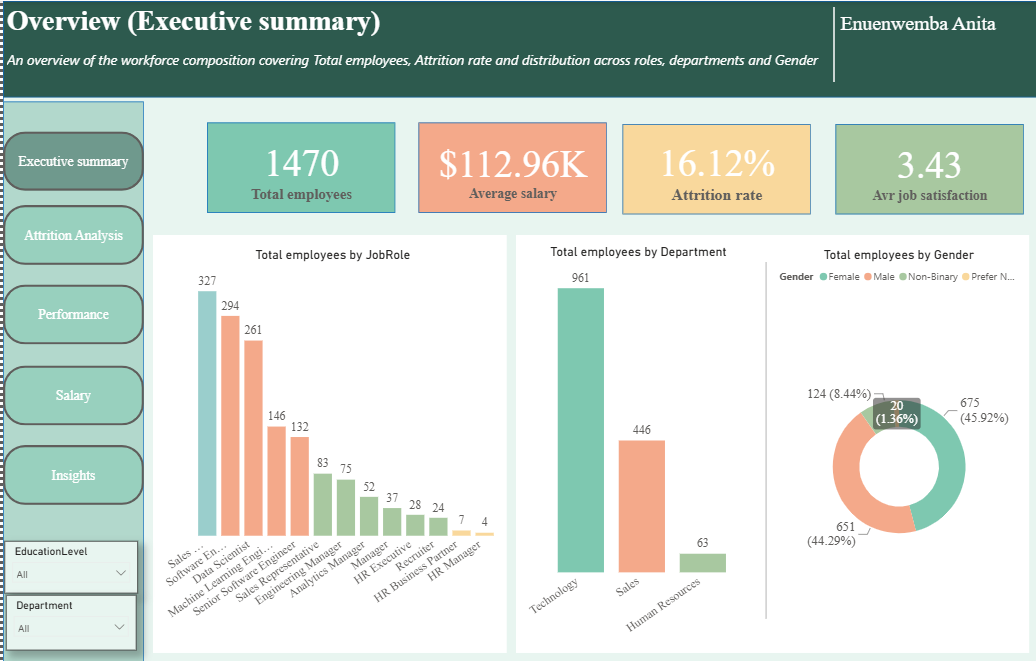

The dashboard page shown, as its layout file describes it:
{"tool":"powerbi","page":{"name":"Executive summary","canvas":[1400,900],"ordinal":0},"visuals":[{"type":"shape","box":[0,0,1399.3,899.1],"z":0},{"type":"shape","box":[1122.4,165.4,254.2,121.9],"z":1000},{"type":"shape","box":[835,165.4,254.2,121.9],"z":2000},{"type":"shape","box":[560.1,163.3,254.2,121.9],"z":3000},{"type":"shape","box":[274.9,163.3,254.2,121.9],"z":4000},{"type":"shape","box":[0,0,1399.3,130.2],"z":5000},{"type":"shape","box":[0,136.4,190.2,762.7],"z":6000},{"type":"shape","box":[202.6,316.2,477.5,564.3],"z":7000},{"type":"shape","box":[692.4,316.2,692.4,564.3],"z":8000},{"type":"card","fields":{"Values":["Employee.Total employees"]},"box":[274.9,165.4,254.2,119.9],"z":9000},{"type":"card","fields":{"Values":["PerformanceRating.Avr job satisfaction"]},"box":[1122.4,169.5,254.2,115.7],"z":10000},{"type":"card","fields":{"Values":["Employee.Attrition rate"]},"box":[835,165.4,254.2,121.9],"z":11000},{"type":"card","fields":{"Values":["Employee.AVERAGE SALARY"]},"box":[560.1,165.4,254.2,119.9],"z":12000},{"type":"clusteredColumnChart","fields":{"Category":["Employee.Department"],"Y":["Employee.Total employees"]},"box":[698.6,328.6,318.3,547.7],"z":13000},{"type":"donutChart","fields":{"Category":["Employee.Gender"],"Y":["Employee.Total employees"]},"box":[1039.7,332.8,336.9,543.6],"z":14000},{"type":"textbox","box":[0,0,1398.6,129.5],"z":15000},{"type":"clusteredColumnChart","fields":{"Category":["Employee.JobRole"],"Y":["Employee.Total employees"]},"box":[210.8,332.8,469.2,533.3],"z":16000},{"type":"slicer","fields":{"Values":["EducationLevel.EducationLevel"]},"box":[2,728.7,180.1,70.8],"z":17000},{"type":"slicer","fields":{"Values":["Employee.Department"]},"box":[4,801.5,176.1,74.9],"z":18000},{"type":"shape","box":[957,351.4,144.7,481.6],"z":19000},{"type":"actionButton","box":[0,176.1,190.3,80],"z":20000},{"type":"actionButton","box":[0,275.3,190.3,81],"z":21000},{"type":"actionButton","box":[0,382.5,190.3,81],"z":22000},{"type":"actionButton","box":[0,491.8,190.3,81],"z":23000},{"type":"actionButton","box":[0,599.1,190.3,81],"z":24000},{"type":"shape","box":[1101.1,8.1,40.5,101.2],"z":25000}]}

Visuals, with their boxes in screenshot pixels (x1, y1, x2, y2), scaled from the page's 1400x900 canvas onto the 1036x661 screenshot:
shape: bbox=(0, 0, 1035, 660)
shape: bbox=(831, 121, 1019, 211)
shape: bbox=(618, 121, 806, 211)
shape: bbox=(414, 120, 603, 209)
shape: bbox=(203, 120, 392, 209)
shape: bbox=(0, 0, 1035, 96)
shape: bbox=(0, 100, 141, 660)
shape: bbox=(150, 232, 503, 647)
shape: bbox=(512, 232, 1025, 647)
card - Employee.Total employees: bbox=(203, 121, 392, 210)
card - PerformanceRating.Avr job satisfaction: bbox=(831, 124, 1019, 209)
card - Employee.Attrition rate: bbox=(618, 121, 806, 211)
card - Employee.AVERAGE SALARY: bbox=(414, 121, 603, 210)
clusteredColumnChart - Employee.Department x Employee.Total employees: bbox=(517, 241, 753, 644)
donutChart - Employee.Gender x Employee.Total employees: bbox=(769, 244, 1019, 644)
textbox: bbox=(0, 0, 1035, 95)
clusteredColumnChart - Employee.JobRole x Employee.Total employees: bbox=(156, 244, 503, 636)
slicer - EducationLevel.EducationLevel: bbox=(1, 535, 135, 587)
slicer - Employee.Department: bbox=(3, 589, 133, 644)
shape: bbox=(708, 258, 815, 612)
actionButton: bbox=(0, 129, 141, 188)
actionButton: bbox=(0, 202, 141, 262)
actionButton: bbox=(0, 281, 141, 340)
actionButton: bbox=(0, 361, 141, 421)
actionButton: bbox=(0, 440, 141, 499)
shape: bbox=(815, 6, 845, 80)
